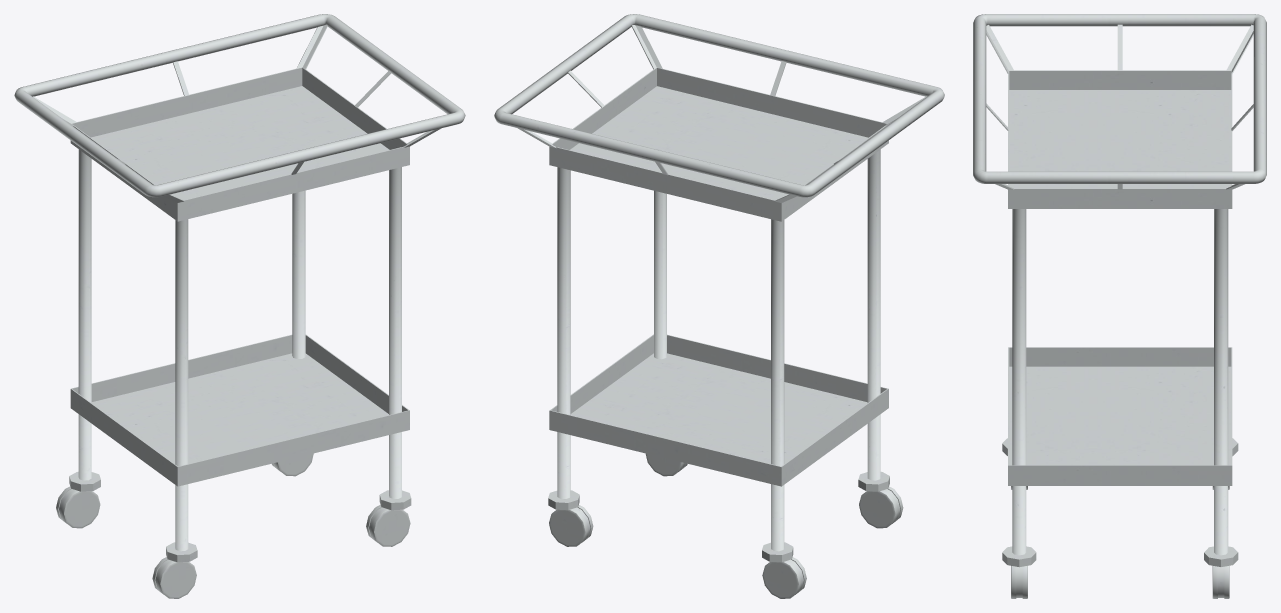
File: SM_解剖房_物品台_02.fbx
3 renders of one model, left to right at view 1: azimuth 30°, elevation 25°; view 2: azimuth 150°, elevation 25°; view 3: azimuth 270°, elevation 25°, orthographic. The views are drawn at different scales.
Visible parts, largest first — view 1: SM_解剖房_物品台_02; view 2: SM_解剖房_物品台_02; view 3: SM_解剖房_物品台_02.
Boxes of the visible parts, bbox=[...] form: SM_解剖房_物品台_02: bbox=[14, 14, 465, 598]; SM_解剖房_物品台_02: bbox=[494, 14, 944, 598]; SM_解剖房_物品台_02: bbox=[973, 14, 1266, 598].
Size of the model in its own units: 689 by 892 by 524.
